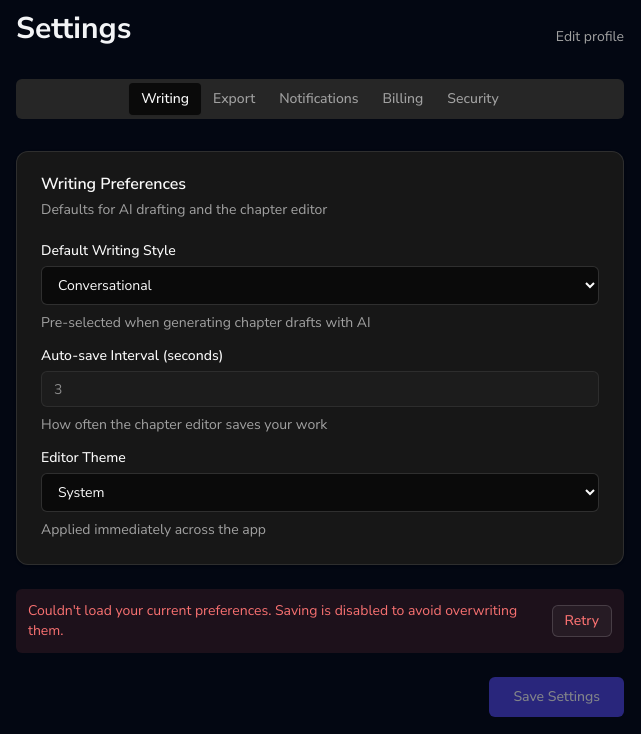
Test case: SettingsPage › keeps Save disabled (and offers retry) when the preference load fails
Expected: the message is shown, [16,589,624,653]
Expected: the button "Save Settings" is disabled, [489,677,624,717]
Click the button "Retry" at (582, 621), box [552,605,612,637]
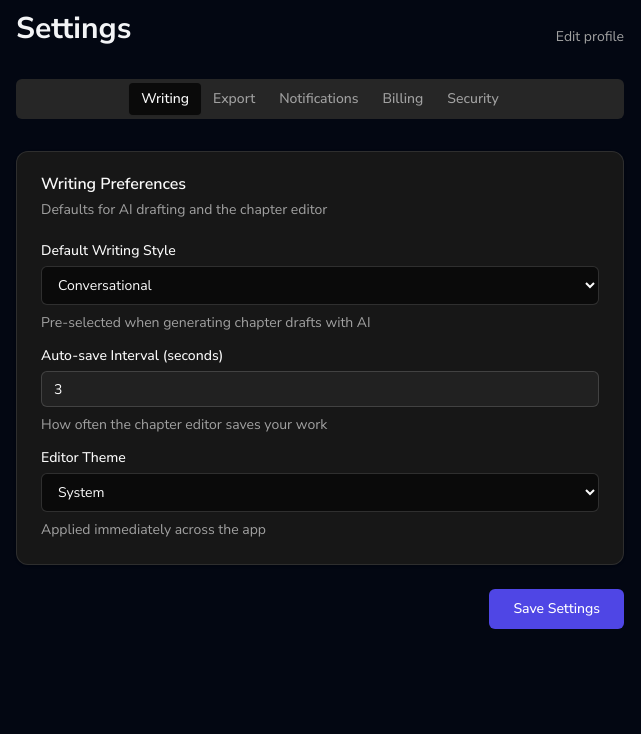
Now the button "Save Settings" is enabled, box [489,589,624,629]
